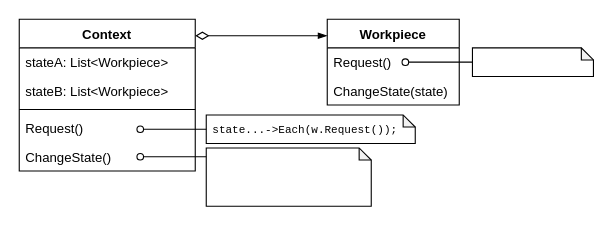
This 613x226 diagram has some shape labels left out. The centre of each missing label's shape, as x and y in pixels:
"Move all Workpieces to next state list. Handle reassigment of state instances." goes at point 288,176.
"state->Handle();" goes at point 532,61.
